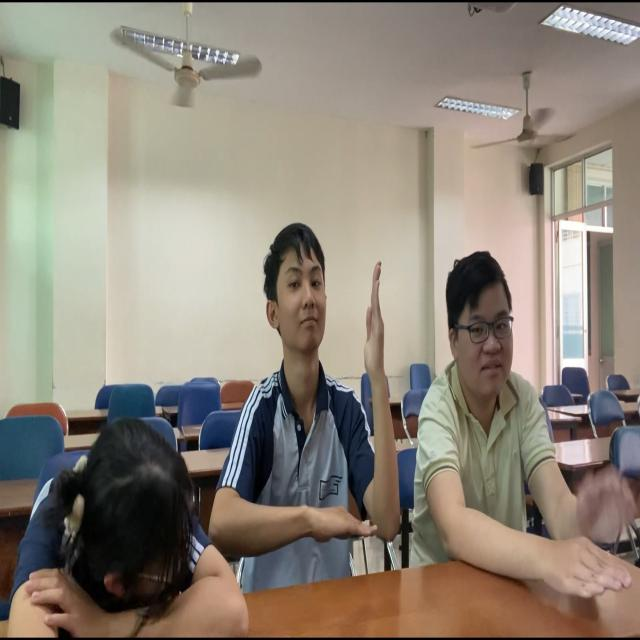raise_hand: (240, 218, 408, 567)
sleep: (16, 390, 260, 640)
